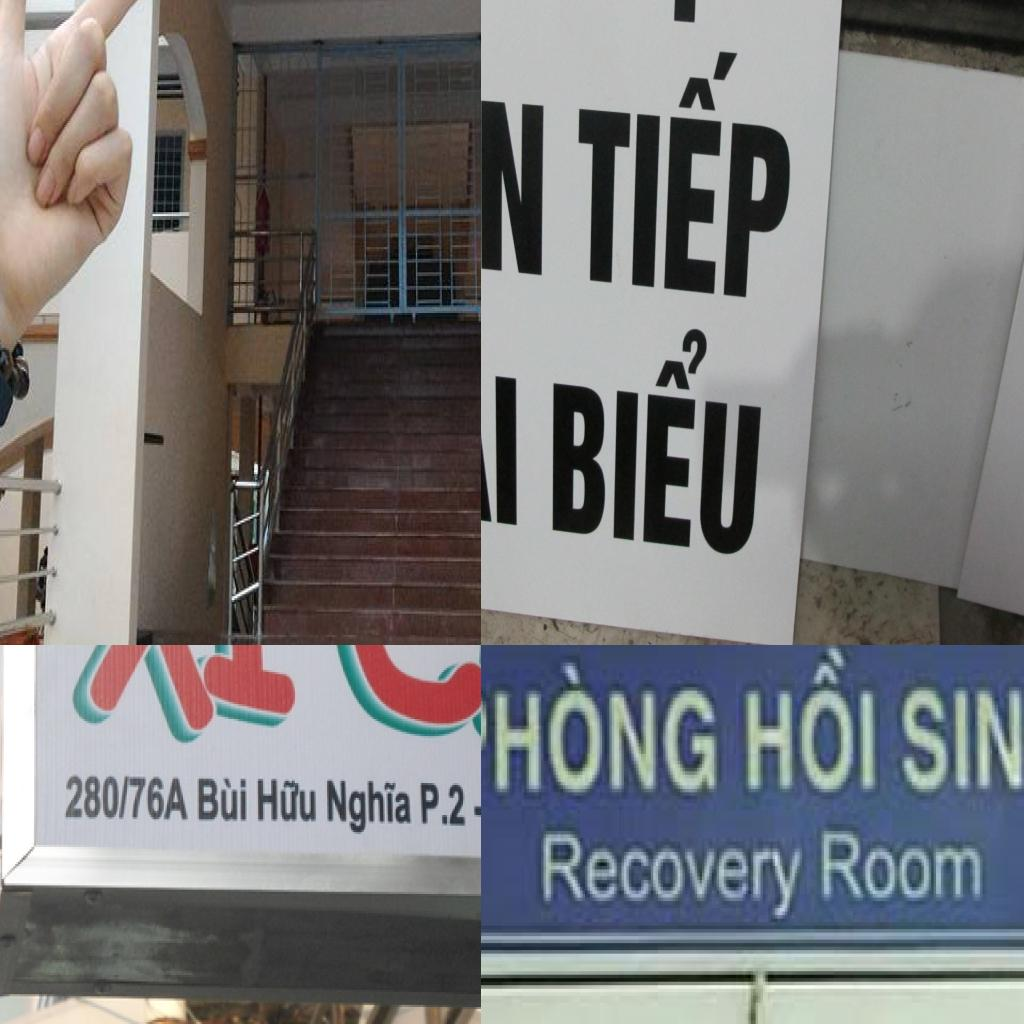text: (576, 34, 797, 304), (551, 314, 766, 558), (481, 658, 721, 806), (541, 835, 812, 922), (63, 645, 300, 742), (741, 645, 885, 795), (481, 51, 544, 278), (894, 687, 1024, 792), (481, 357, 517, 563), (62, 772, 192, 826), (327, 779, 413, 838), (253, 772, 319, 830), (193, 772, 250, 826), (416, 779, 470, 830)
